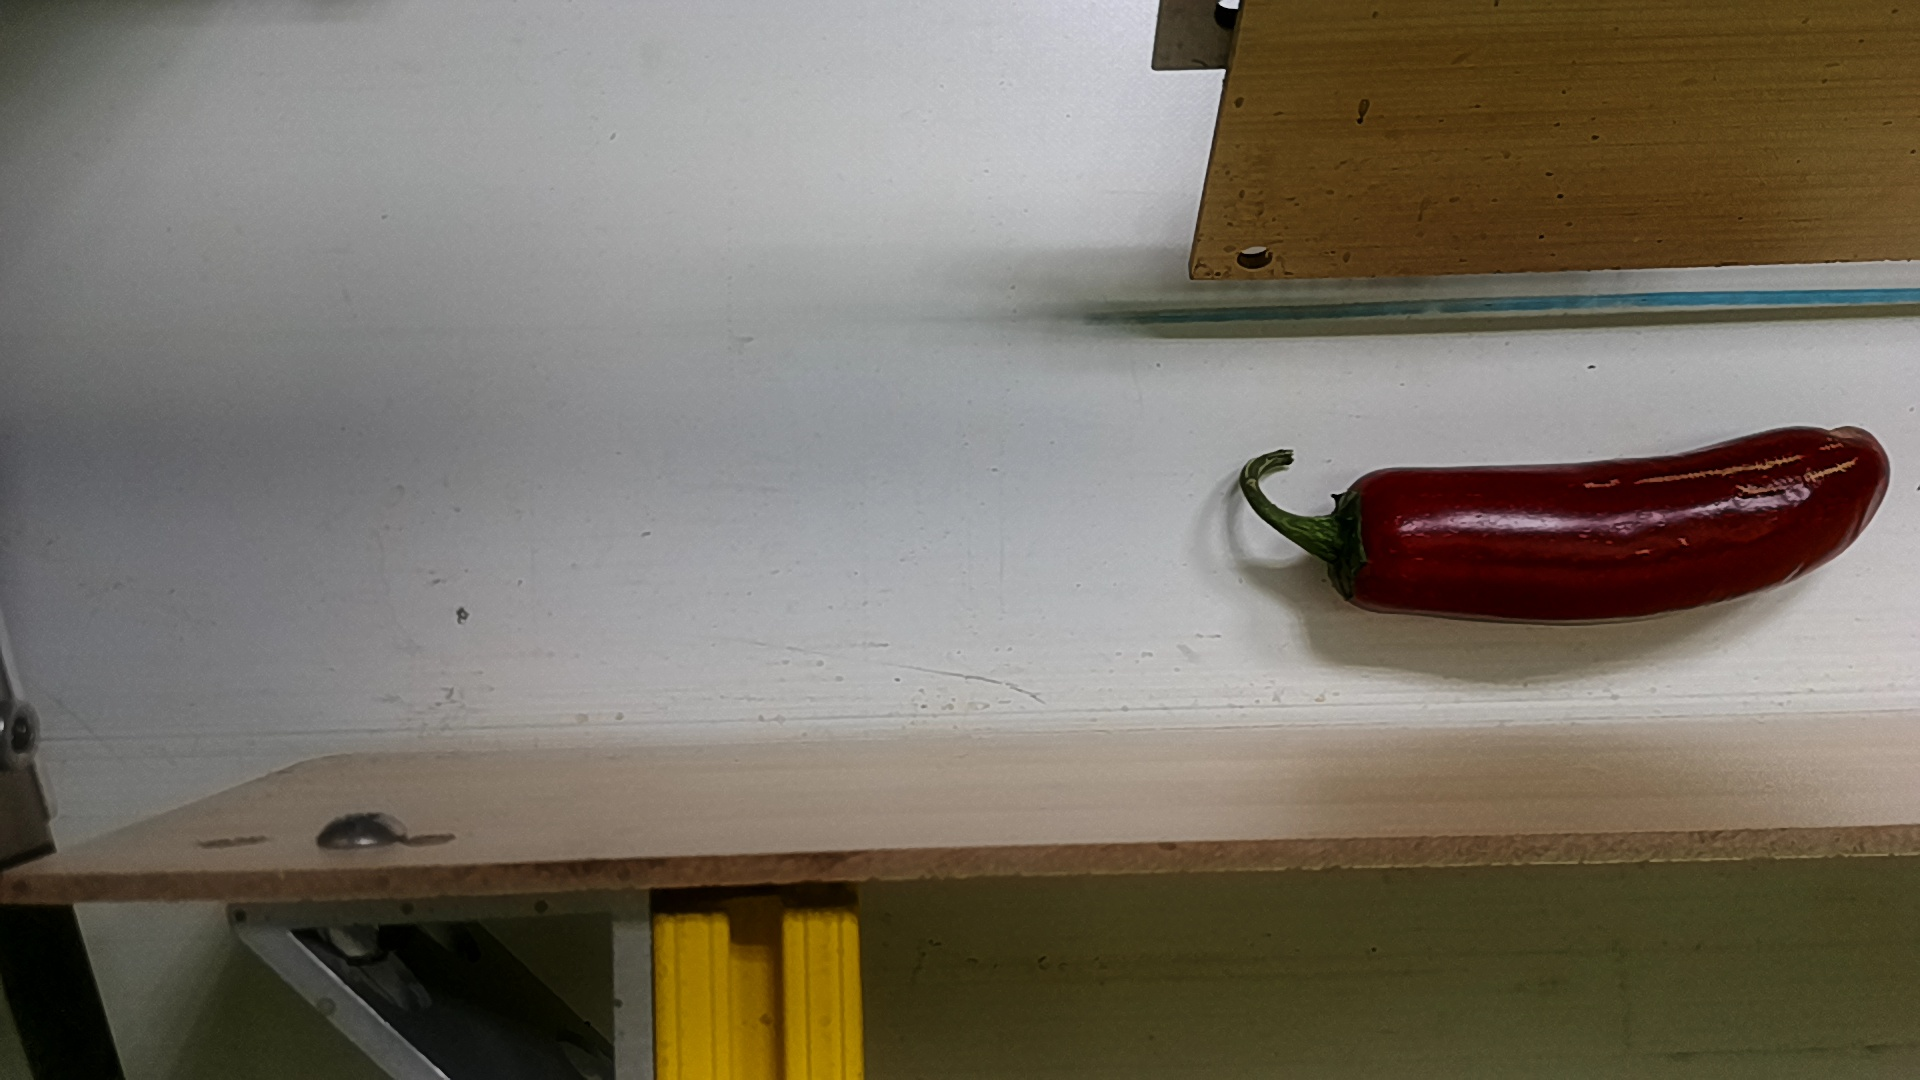Cut Point: (1317, 463, 1403, 622)
